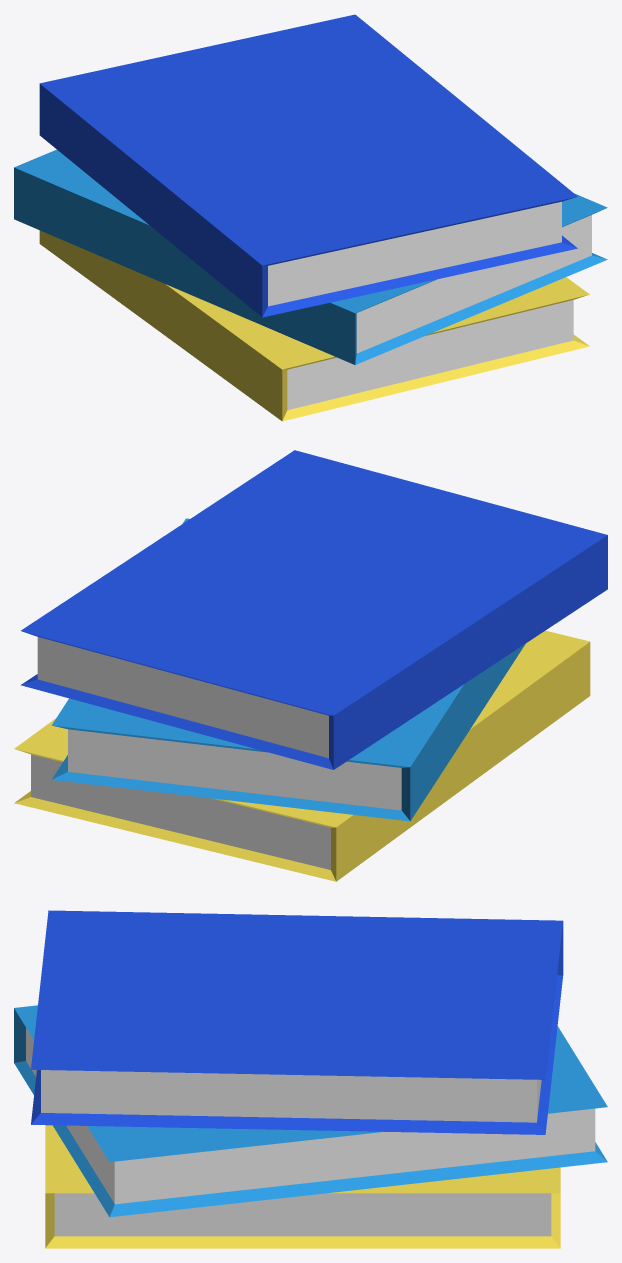
Rendered from books.fbx.
3 renders of one model, top to bottom at view 1: azimuth 30°, elevation 25°; view 2: azimuth 150°, elevation 25°; view 3: azimuth 270°, elevation 25°, orthographic. The views are drawn at different scales.
Parts seen in each view (by area): view 1: books; view 2: books; view 3: books.
Part boxes in pixels (x1,y1,x2,y2): books: [14, 14, 607, 421]; books: [14, 450, 607, 881]; books: [14, 910, 607, 1248].
Bounding box in the file's own units: 0.5712 × 0.215 × 0.6848.
1 material, 1 textured.
